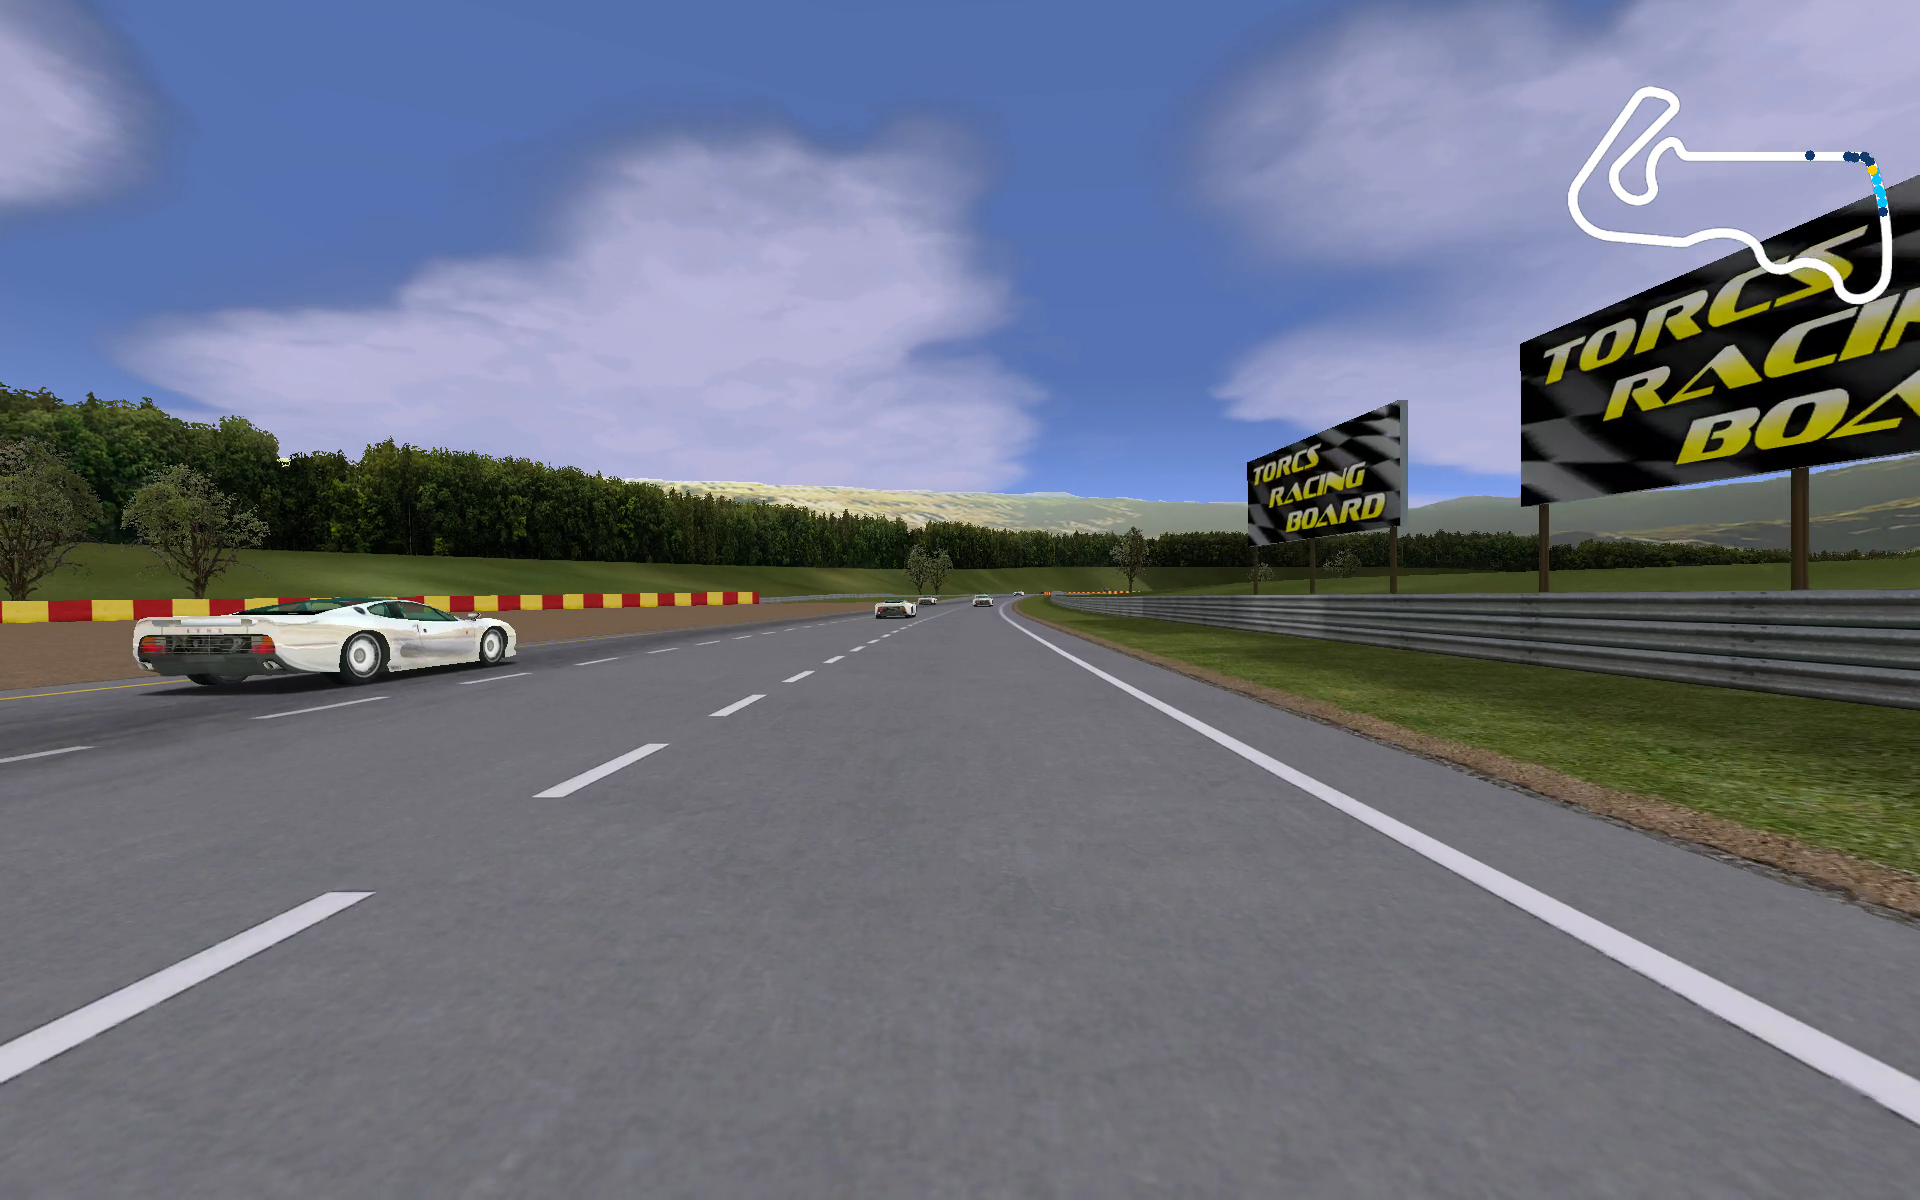car: (130, 596, 518, 686), (875, 594, 918, 622), (970, 593, 992, 608), (921, 594, 936, 608)
